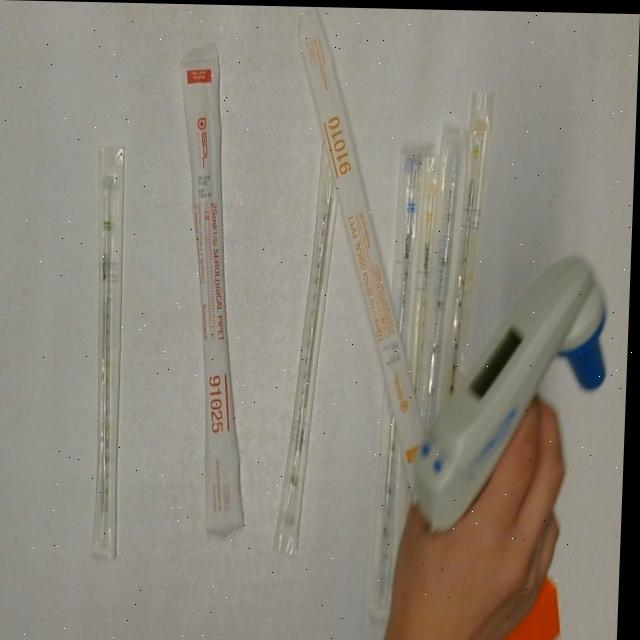Pipette Controller: (411, 243, 617, 640)
Serelogical Pipet 1 mL - Sealed: (443, 81, 500, 408), (410, 149, 448, 396)
Serelogical Pipet 10 mL - Sealed: (280, 5, 451, 500)
Serelogical Pipet 2 mL - Sealed: (271, 125, 347, 563), (87, 137, 136, 564)
Serelogical Pipet 25 mL - Sealed: (162, 34, 265, 536)
Serelogical Pipet 5 mL - Sealed: (372, 139, 437, 627), (427, 122, 471, 429)
